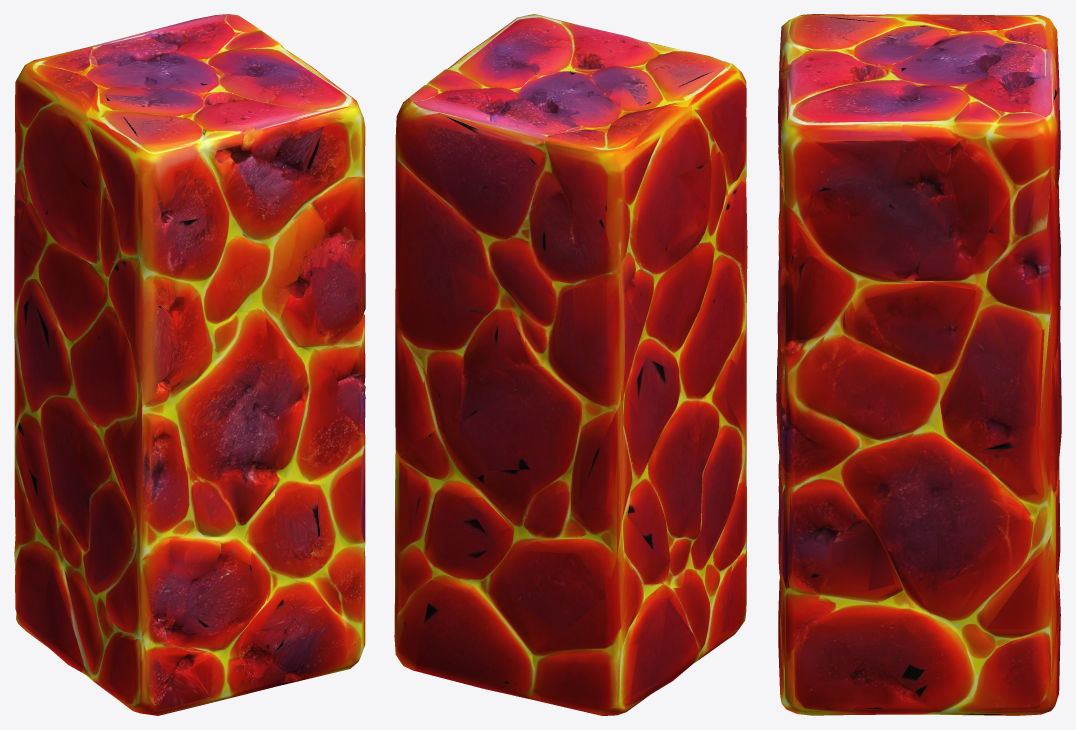
Rendered from alev_tas_uzun_kup_parcali.glb.
3 views of the same model, side by side, from view 1: azimuth 30°, elevation 25°; view 2: azimuth 150°, elevation 25°; view 3: azimuth 270°, elevation 25° (orthographic). The views are drawn at different scales.
Parts seen in each view (by area): view 1: p05, p10, p04, p11, p07, p00, p06, p03, p08, p02; view 2: p00, p05, p03, p01, p02, p09, p08, p04, p10; view 3: p05, p06, p07, p09, p01, p02, p11.
Part boxes in pixels (bbox=[...]): p05: bbox=[41, 14, 365, 245]; p10: bbox=[59, 414, 277, 666]; p04: bbox=[30, 198, 242, 434]; p11: bbox=[136, 311, 365, 508]; p07: bbox=[212, 441, 365, 695]; p00: bbox=[14, 58, 121, 383]; p06: bbox=[226, 155, 365, 386]; p03: bbox=[14, 492, 238, 715]; p08: bbox=[14, 404, 81, 533]; p02: bbox=[14, 368, 45, 416]; p00: bbox=[491, 124, 734, 459]; p05: bbox=[395, 14, 746, 255]; p03: bbox=[525, 521, 746, 715]; p01: bbox=[395, 210, 537, 449]; p02: bbox=[395, 386, 659, 534]; p09: bbox=[394, 473, 534, 697]; p08: bbox=[489, 455, 698, 648]; p04: bbox=[643, 115, 747, 457]; p10: bbox=[675, 326, 746, 567]; p05: bbox=[778, 14, 1060, 264]; p06: bbox=[778, 174, 989, 451]; p07: bbox=[778, 448, 969, 715]; p09: bbox=[852, 506, 1060, 715]; p01: bbox=[894, 225, 1061, 490]; p02: bbox=[893, 403, 1061, 528]; p11: bbox=[776, 301, 841, 482].
Size of the model in its own units: 0.4289 by 0.9788 by 0.421.
2 materials, 1 textured.
